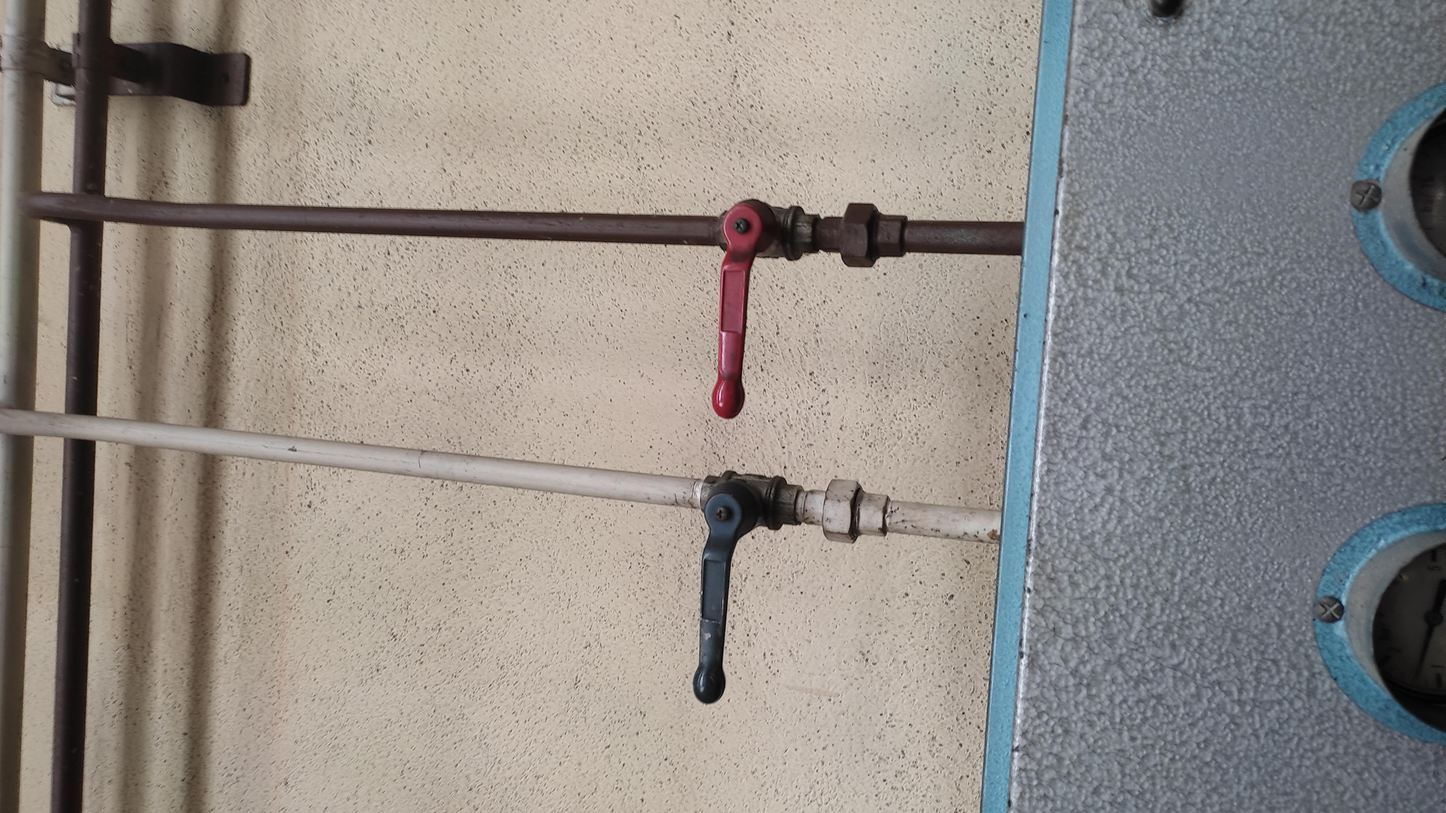closed valve: (689, 467, 805, 707), (712, 194, 816, 421)
